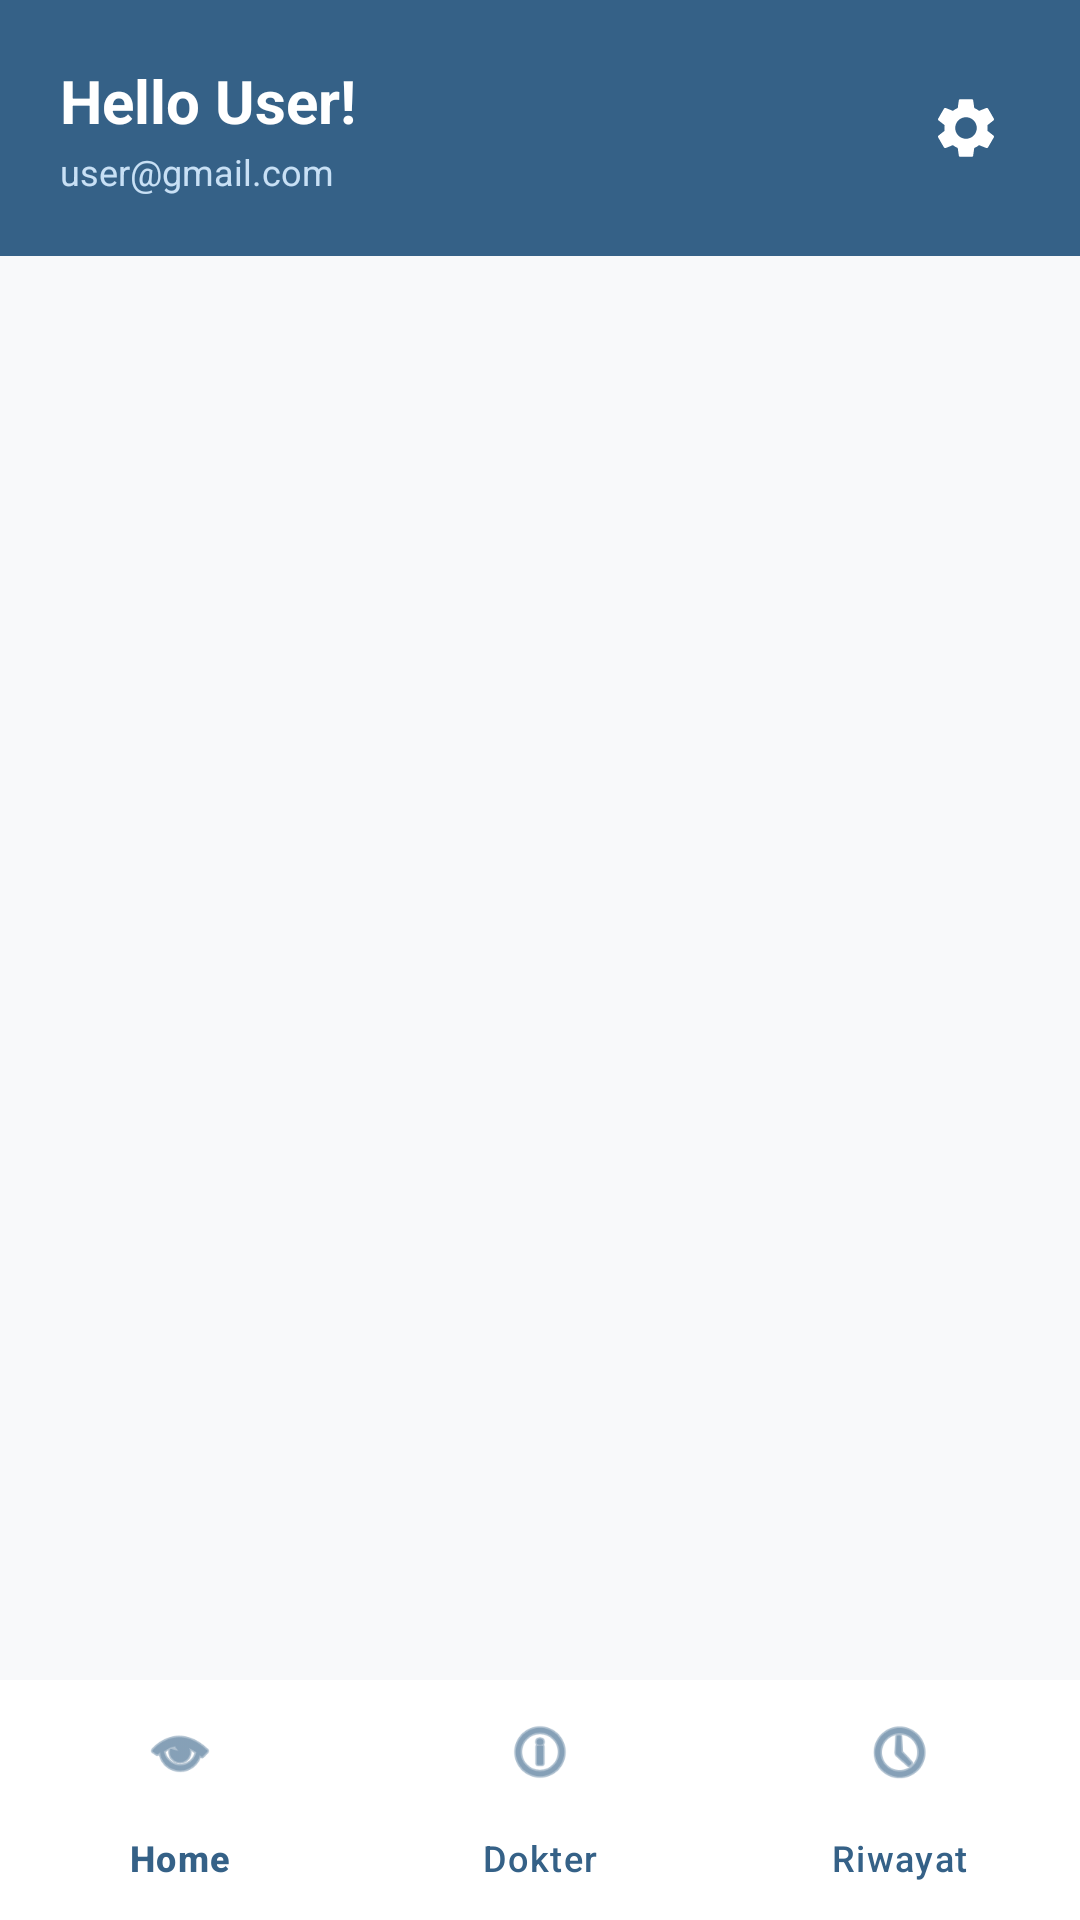

Screen size 1080*1920. Icon name, then its center in pixels as (x=x, y=y):
Settings: (x=966, y=128)
